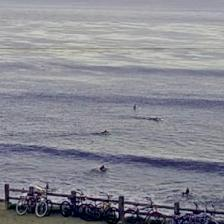surfer: (98, 129, 110, 134), (183, 188, 190, 196), (99, 164, 106, 171), (148, 118, 158, 122), (134, 104, 136, 109)
